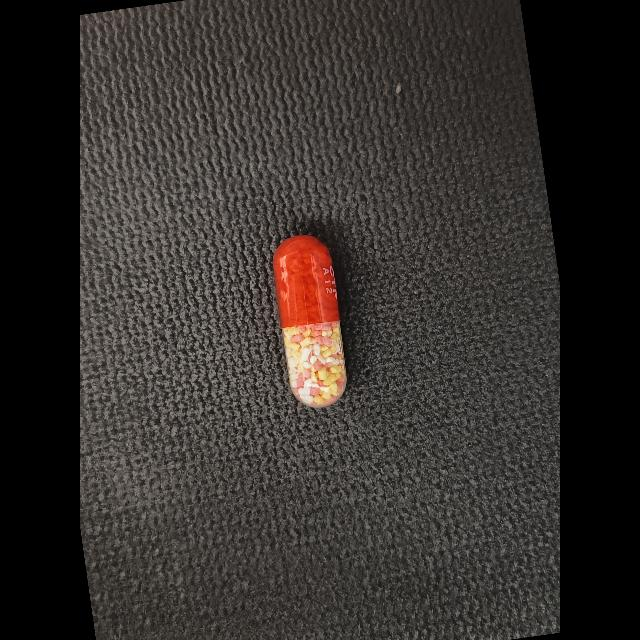Intact Capsule: (273, 235, 347, 408)
